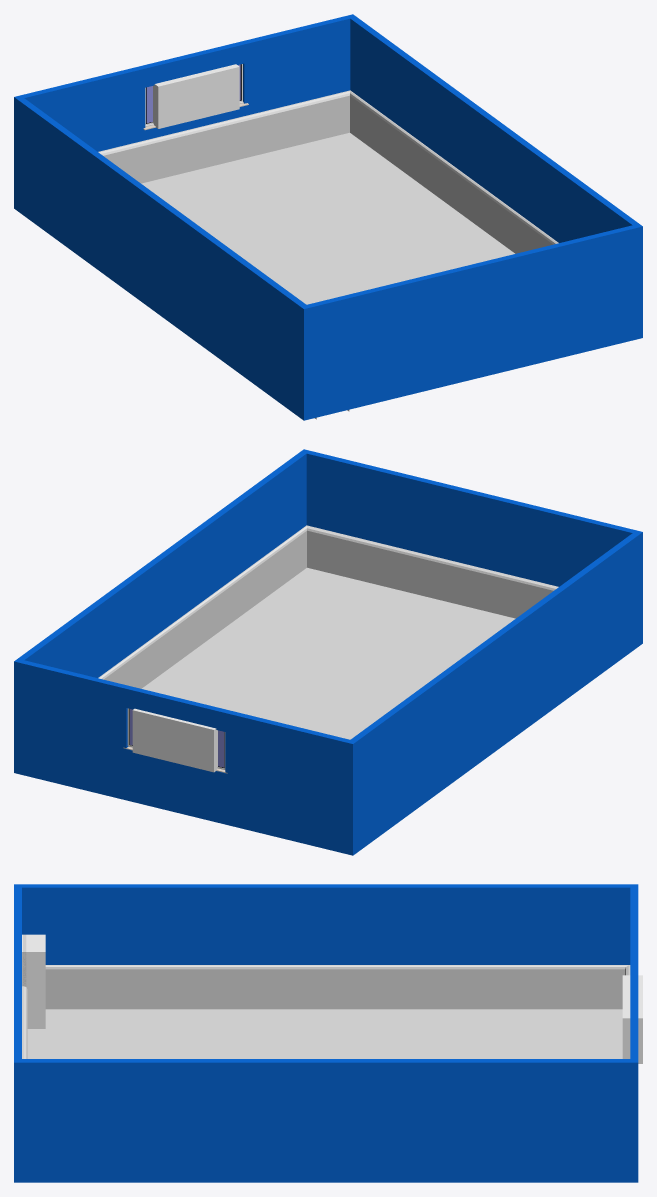
The model's file is bedRoomScene.fbx.
The picture shows the model from 3 angles, top to bottom: view 1: azimuth 30°, elevation 25°; view 2: azimuth 150°, elevation 25°; view 3: azimuth 270°, elevation 25°; orthographic projection. The views are drawn at different scales.
Parts seen in each view (by area): view 1: Room, Floor, Baseboard, CTRL_Hole.002; view 2: Room, Floor, Baseboard, CTRL_Hole.002, Window; view 3: Room, Floor, Baseboard, CTRL_Hole, CTRL_Hole.002.
Boxes of the visible parts, <box> form: Room: <box>14,14,642,420</box>; Floor: <box>141,132,514,304</box>; Baseboard: <box>98,90,558,253</box>; CTRL_Hole.002: <box>153,64,239,128</box>; Room: <box>14,449,642,855</box>; Floor: <box>142,567,515,739</box>; Baseboard: <box>98,525,558,688</box>; CTRL_Hole.002: <box>132,708,217,772</box>; Window: <box>123,708,227,773</box>; Room: <box>14,884,638,1182</box>; Floor: <box>27,1009,622,1058</box>; Baseboard: <box>22,965,630,1058</box>; CTRL_Hole: <box>22,934,45,1028</box>; CTRL_Hole.002: <box>622,975,642,1063</box>.
Size of the model in its own units: 1040 by 337 by 1551.
